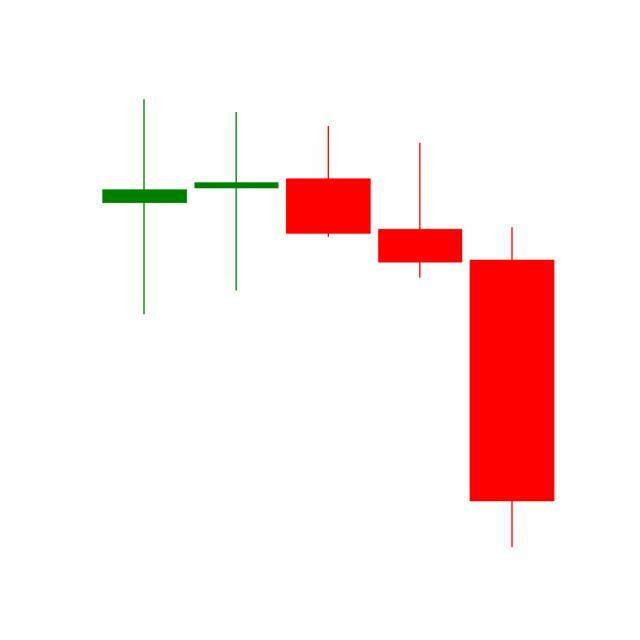Three Outside Up-Down: (190, 110, 467, 293)
